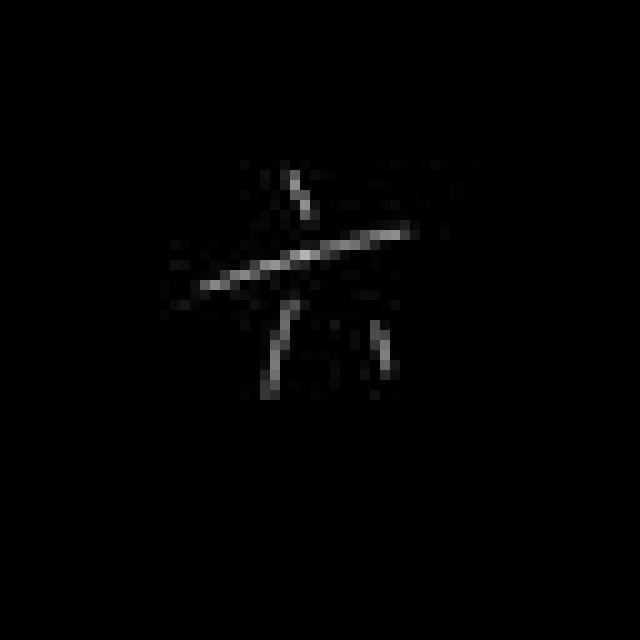6 -six-: (188, 159, 424, 405)
